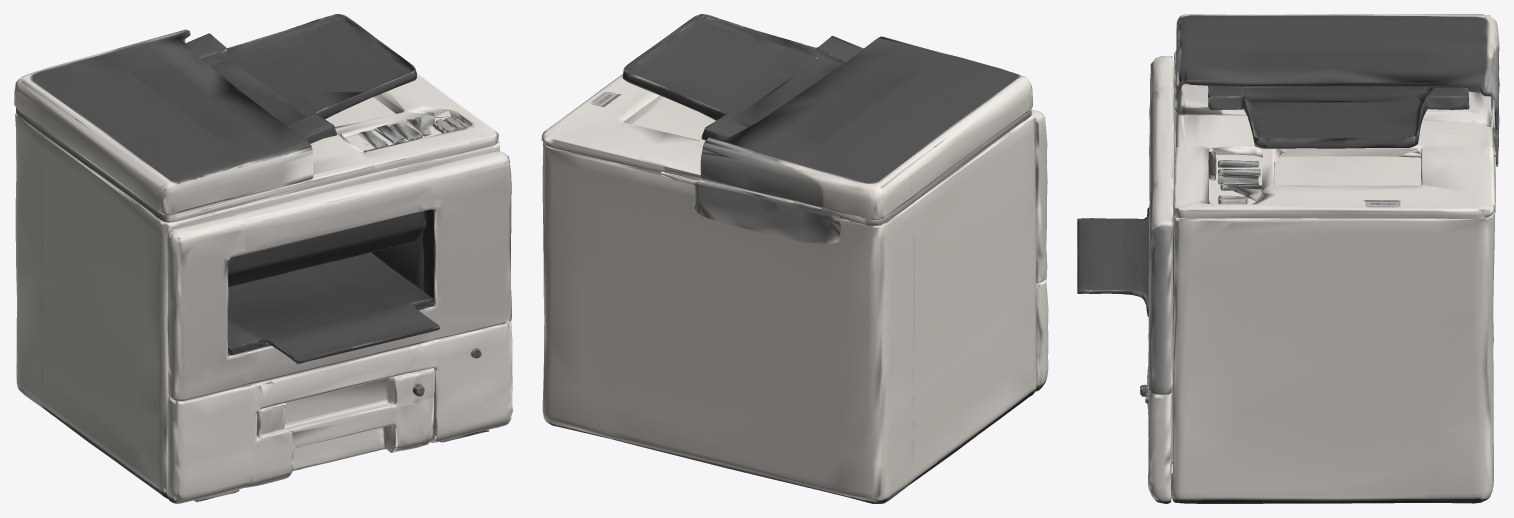
Rendered from OfficePrinter.fbx.
3 views of the same model, side by side, from view 1: azimuth 30°, elevation 25°; view 2: azimuth 150°, elevation 25°; view 3: azimuth 270°, elevation 25° (orthographic). The views are drawn at different scales.
Visible parts, largest first — view 1: Mesh_0; view 2: Mesh_0; view 3: Mesh_0.
Part boxes in pixels (x1,y1,x2,y2): Mesh_0: (14, 14, 512, 503); Mesh_0: (541, 14, 1048, 503); Mesh_0: (1077, 14, 1499, 503).
Bounding box in the file's own units: 95.9 × 90.54 × 99.23.
1 material, 1 textured.
